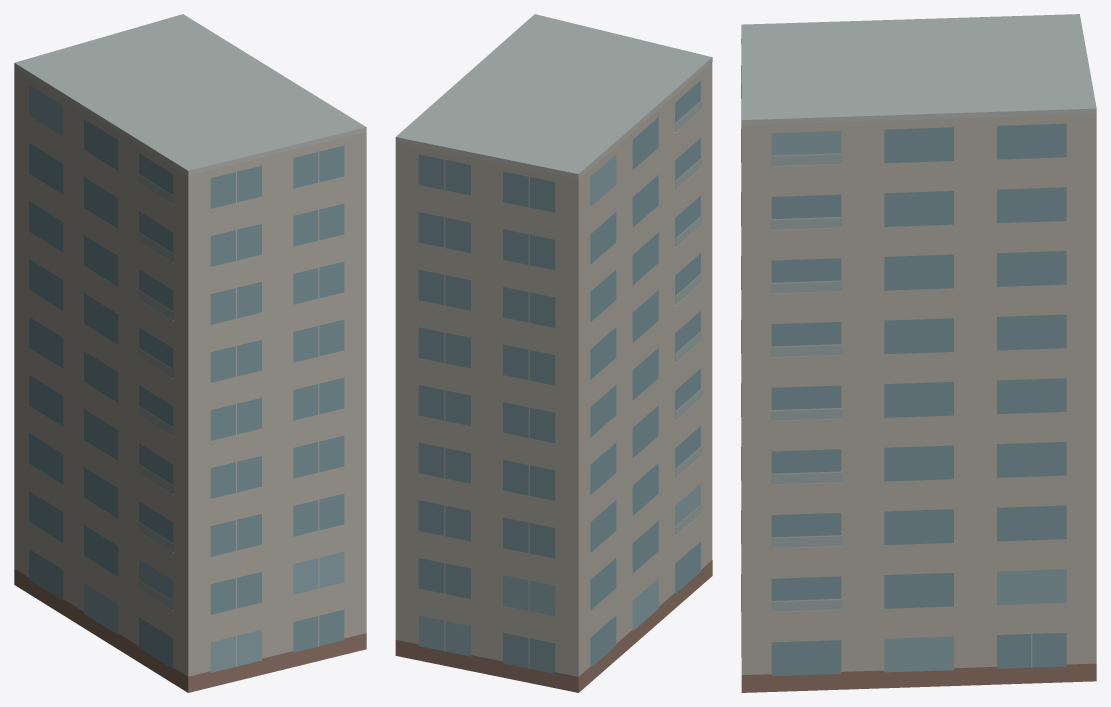
The model's file is survey-upis-32727581.glb.
3 renders of one model, left to right at view 1: azimuth 30°, elevation 25°; view 2: azimuth 150°, elevation 25°; view 3: azimuth 270°, elevation 25°, orthographic. The views are drawn at different scales.
Visible parts, largest first — view 1: survey-upis-32727581.tmp; view 2: survey-upis-32727581.tmp; view 3: survey-upis-32727581.tmp.
Part boxes in pixels (x1,y1,x2,y2): survey-upis-32727581.tmp: [14, 14, 366, 692]; survey-upis-32727581.tmp: [395, 14, 712, 692]; survey-upis-32727581.tmp: [741, 14, 1096, 692].
Bounding box in the file's own units: 10.22 × 25.7 × 14.47.
